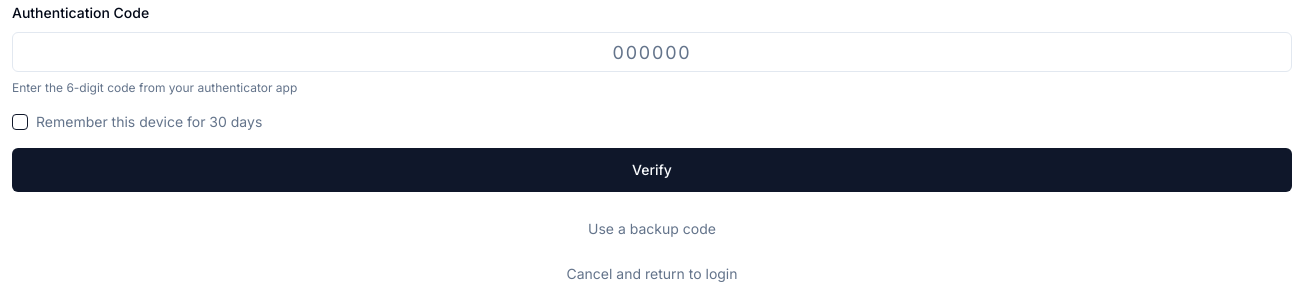
Test case: TwoFactorVerifyForm › when userId is present › filters non-digit characters for TOTP code
This screenshot has width=1304, height=299.
Type "12ab34cd56" into the field labelled "Authentication Code". click: (652, 52)
box: [12,32,1292,72]
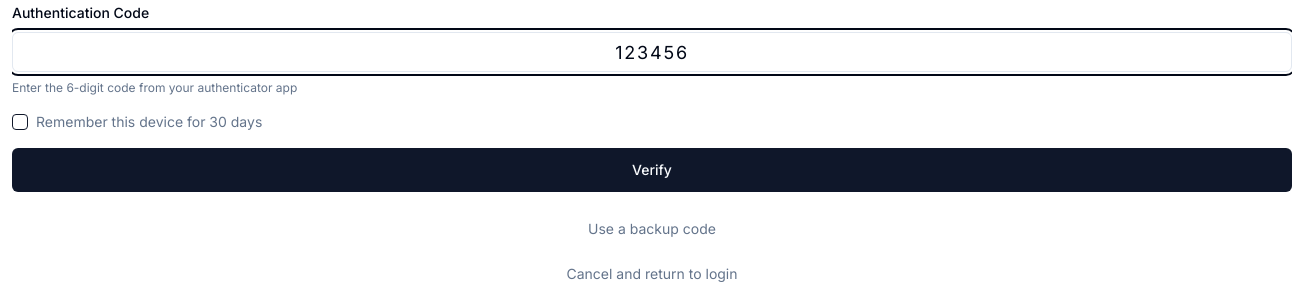
expect the field labelled "Authentication Code" holds "123456": met, box [12,32,1292,72]
